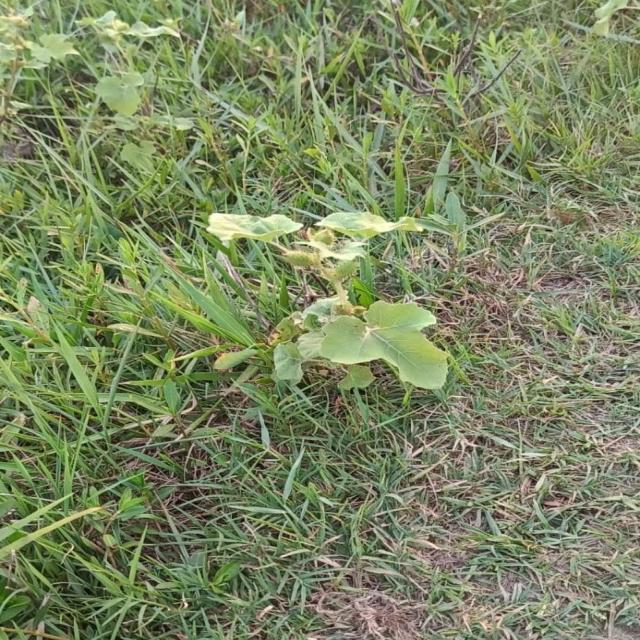weed: (206, 212, 449, 390)
